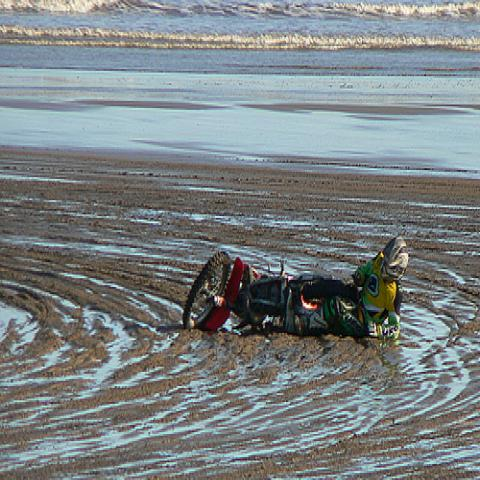motorcycle: (182, 253, 298, 338), (248, 272, 336, 334)
